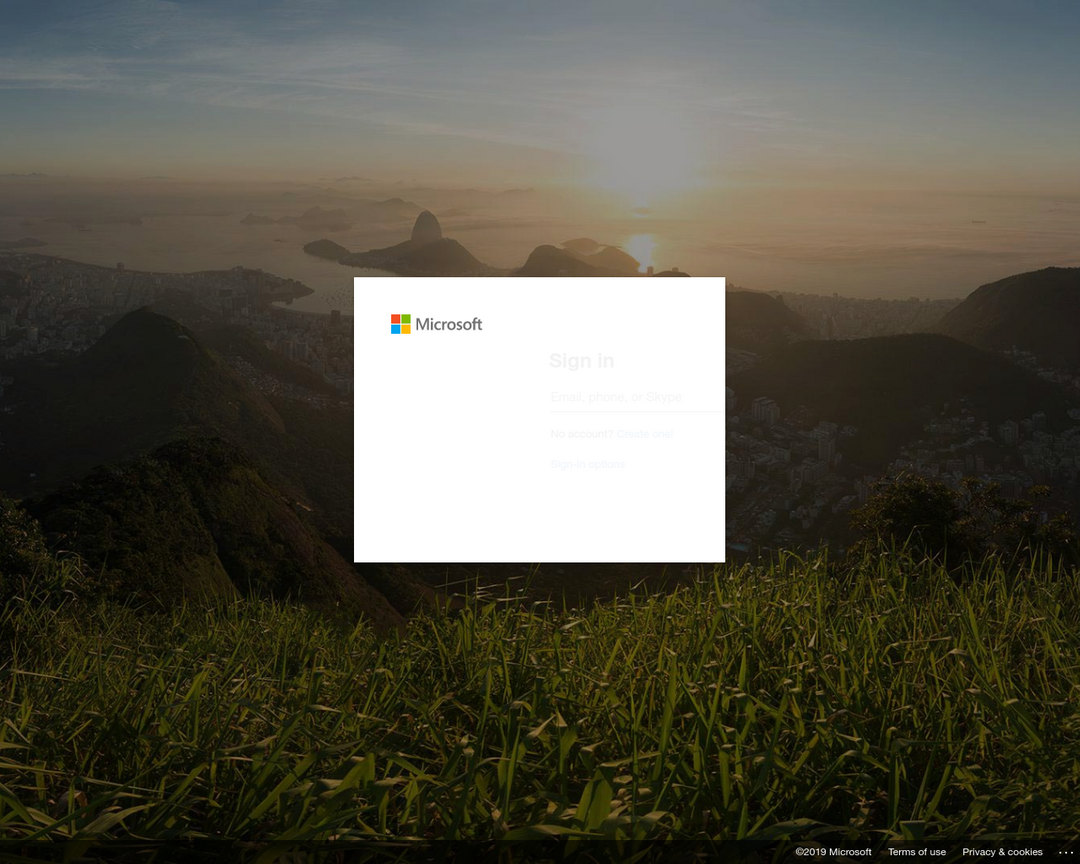Microsoft: (386, 309, 489, 342)
